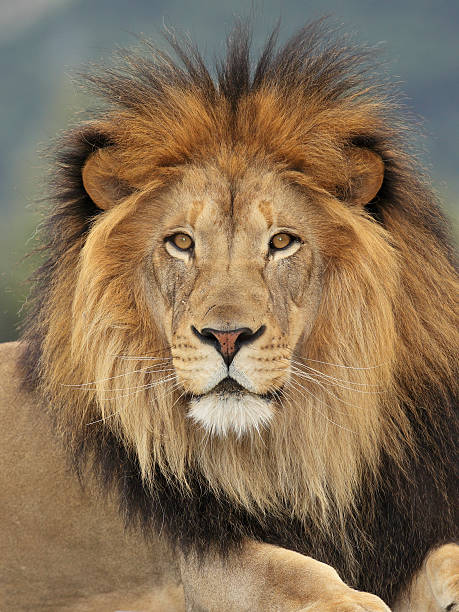lion: (3, 2, 458, 564)
